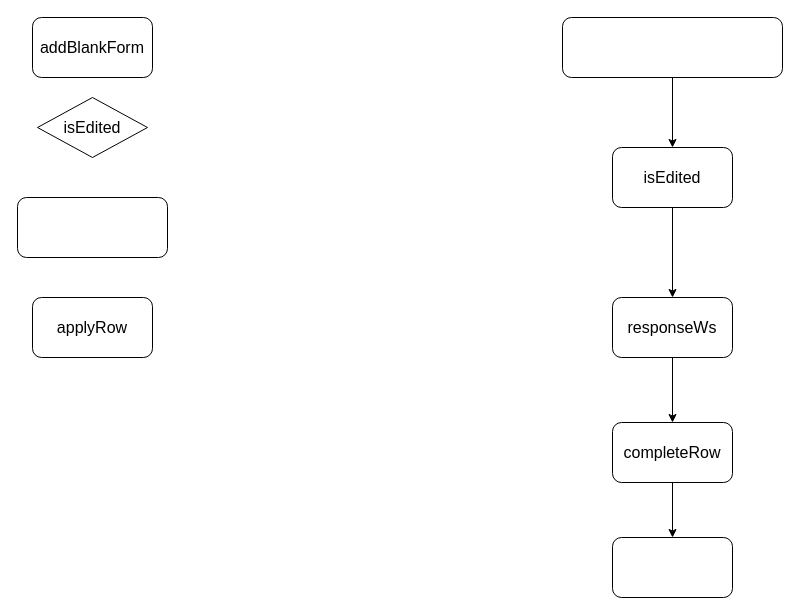
Image size: 800x615. Some labels were removed from this diagram. Each missing label, with the centre of its shape:
addEnteredData: the point at 92,227
rewriteTable: the point at 672,567
wsConnect onmessage: the point at 672,47
